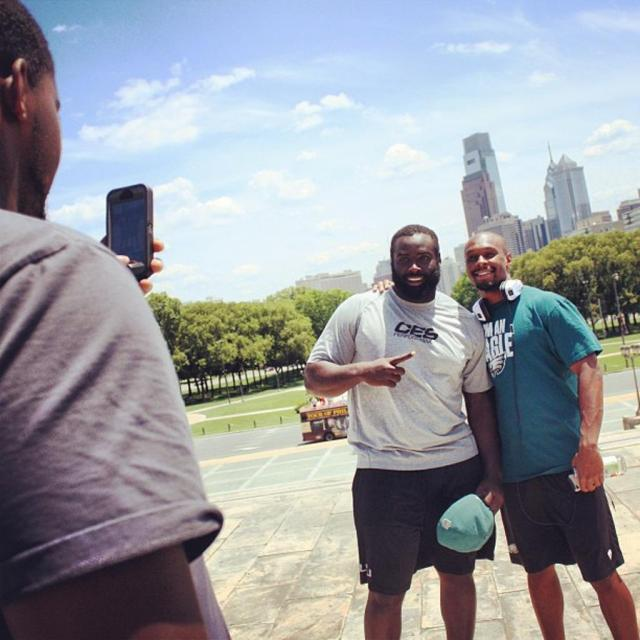nomask: (391, 228, 440, 294), (469, 236, 509, 292)
